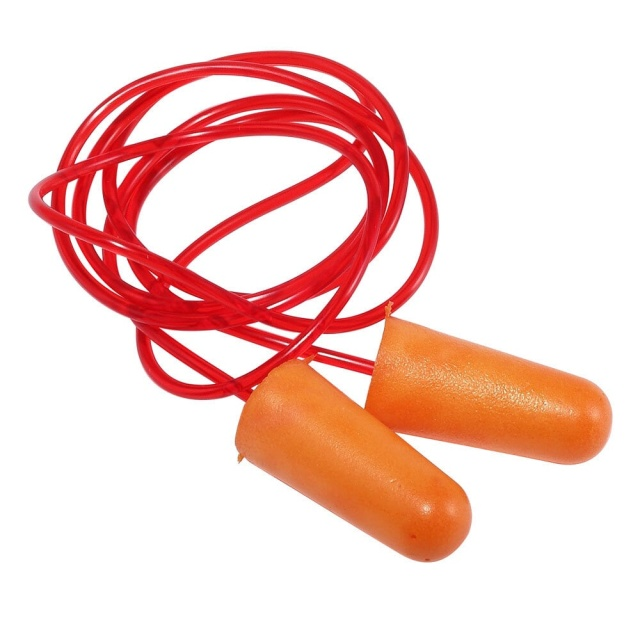Hearing_Protection: (226, 359, 542, 565), (365, 310, 609, 454)
